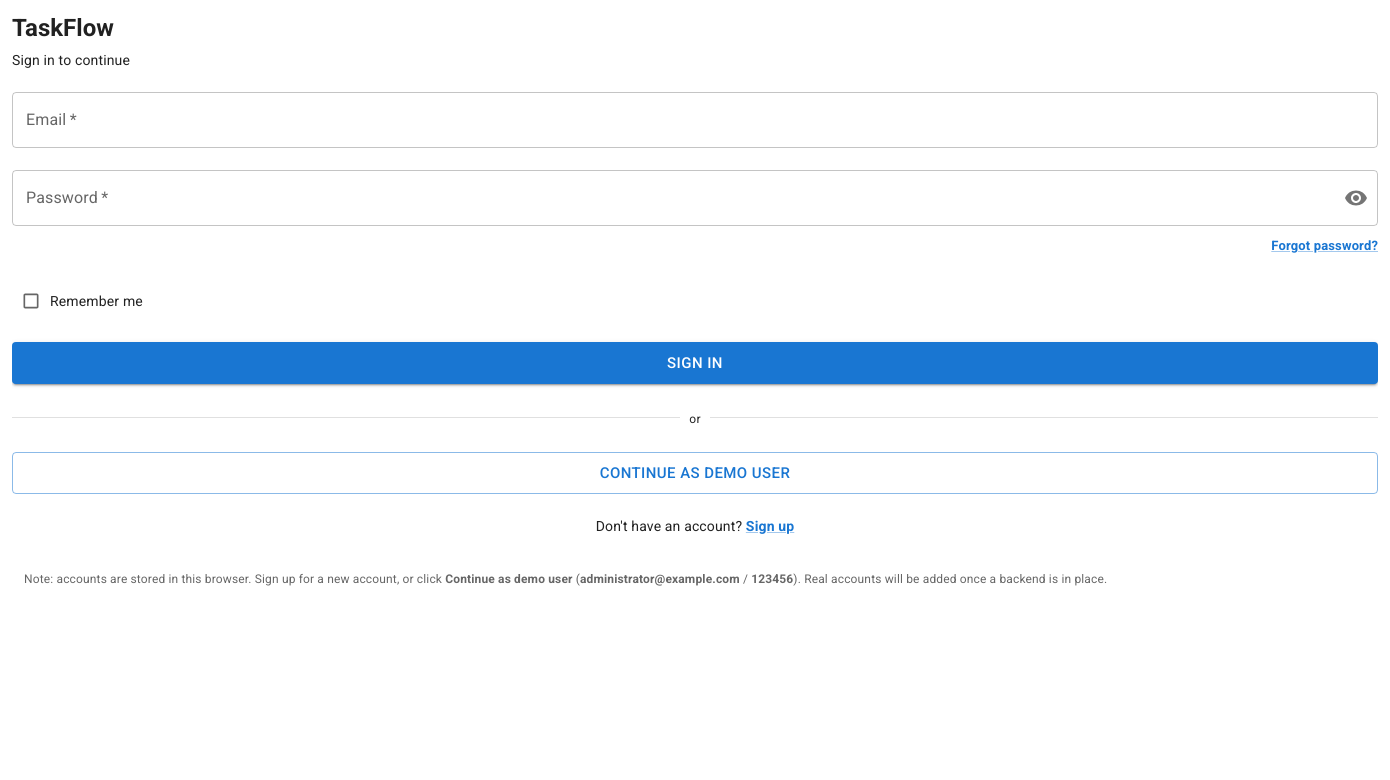
Test case: LoginForm › rejects an invalid email address
This screenshot has width=1390, height=780.
Step 1. Type "not-a-valid-email" into the field with test id "login-form-email" → x=695, y=120, box [12, 92, 1378, 148]
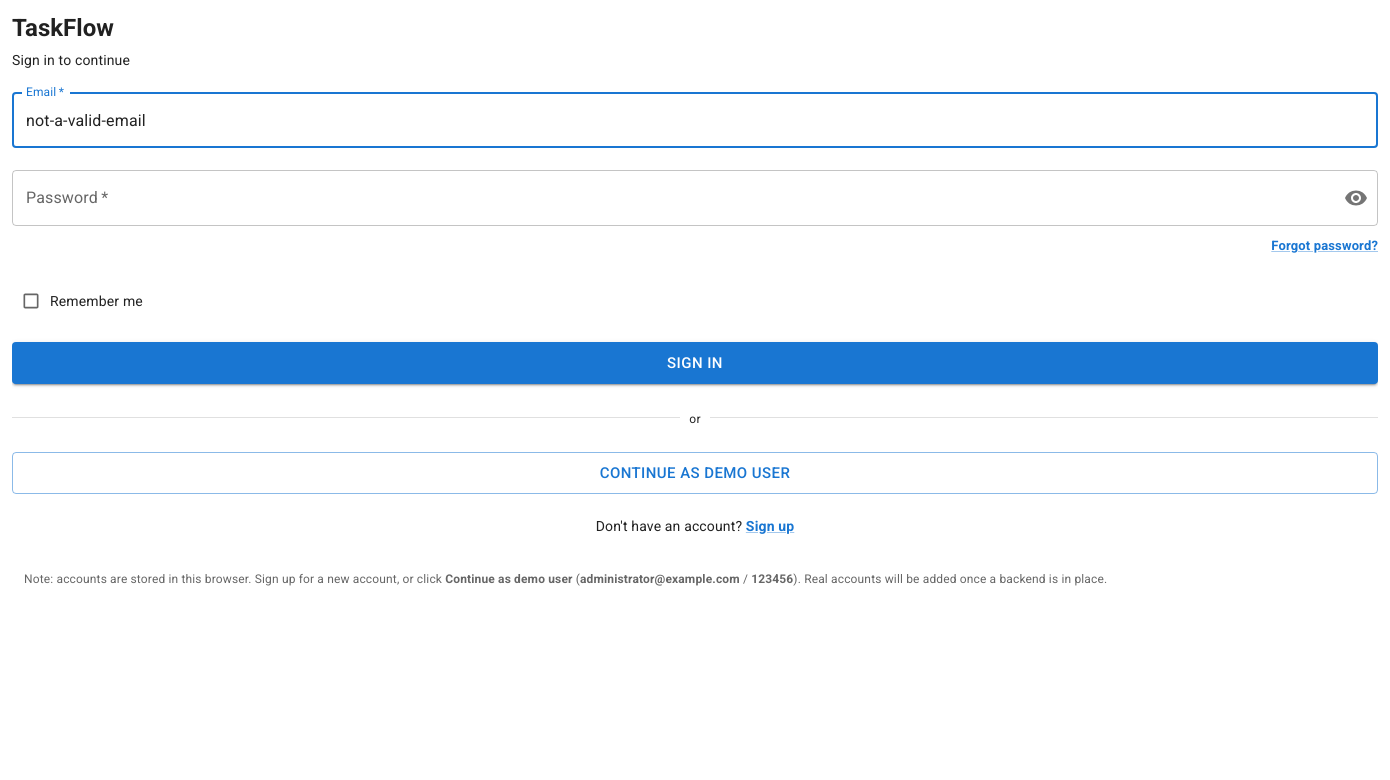
Step 2. Type "123456" into the password field with test id "login-form-password" → x=670, y=198, box [12, 170, 1328, 226]
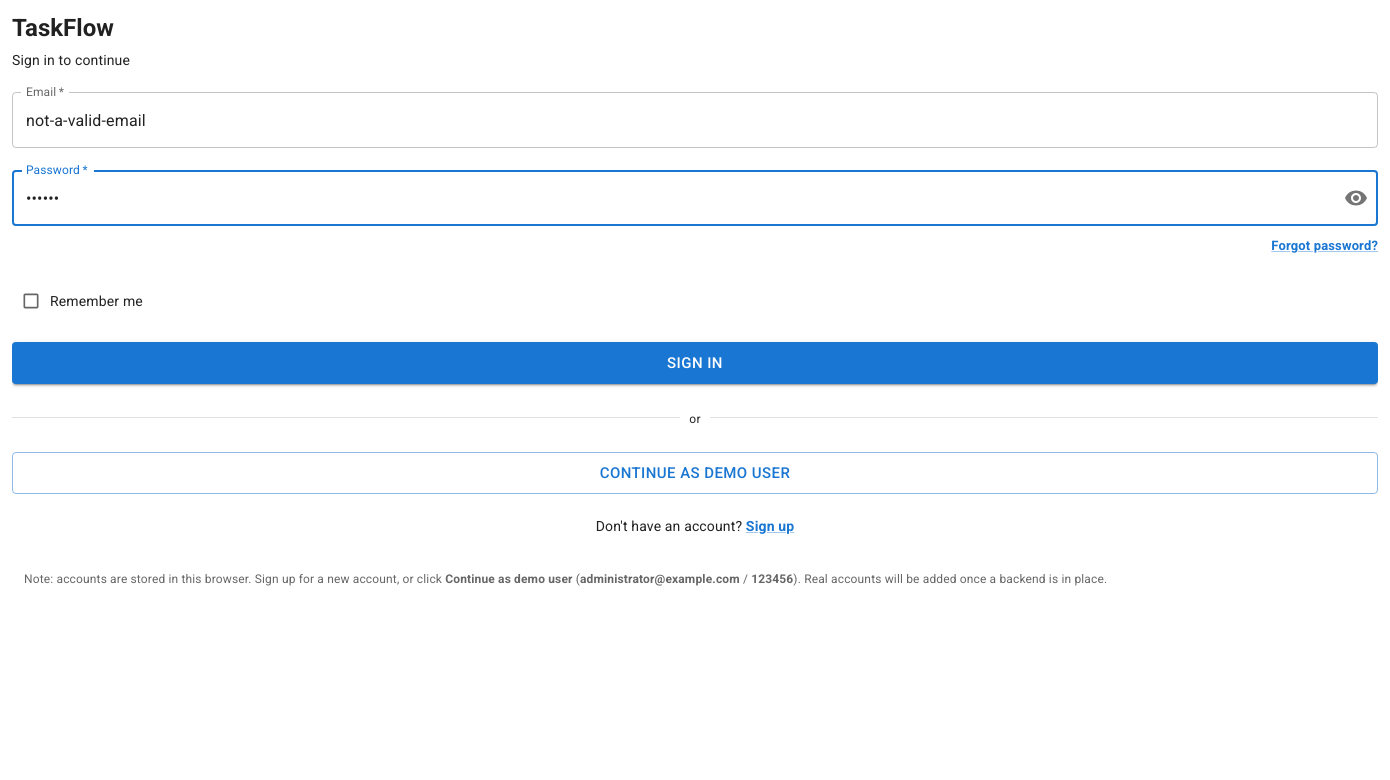
Step 3. Click the button with test id "login-form-submit" → x=695, y=363, box [12, 342, 1378, 384]
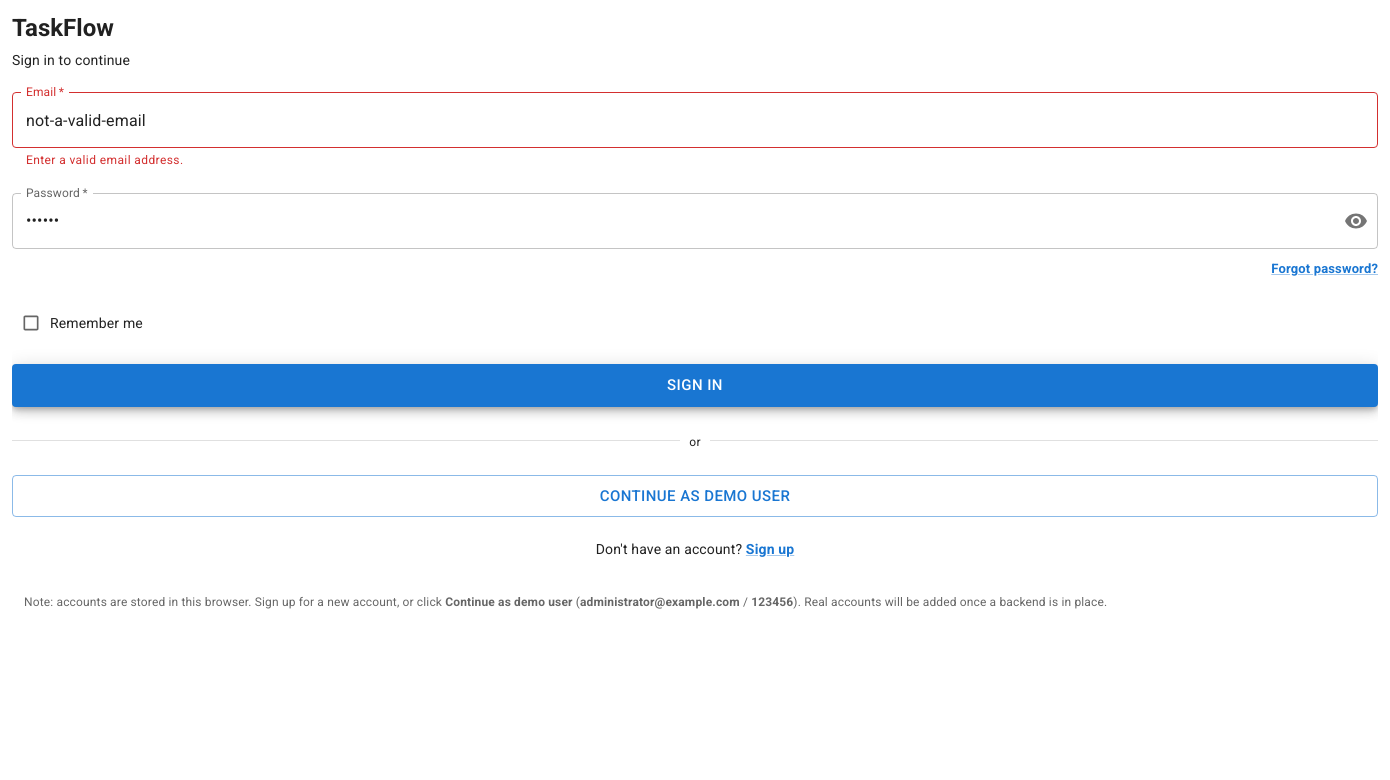
Expected: the text "Enter a valid email address." is shown, [26, 153, 184, 167]
